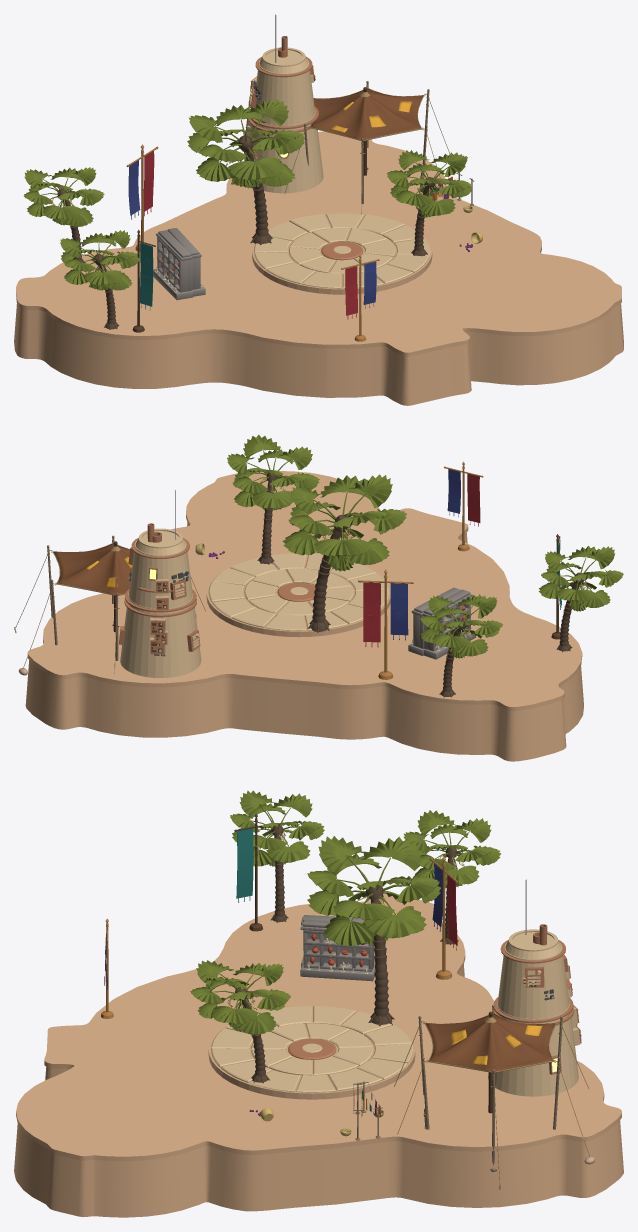
The model's file is nomad_market_plaza.fbx.
3 views of the same model, one above another, from view 1: azimuth 30°, elevation 25°; view 2: azimuth 150°, elevation 25°; view 3: azimuth 270°, elevation 25° (orthographic). The views are drawn at different scales.
Parts seen in each view (by area): view 1: NomadMarketPlaza; view 2: NomadMarketPlaza; view 3: NomadMarketPlaza.
Boxes of the visible parts, x1,y1,x2,y2 form: NomadMarketPlaza: (14,14,623,405); NomadMarketPlaza: (14,434,623,761); NomadMarketPlaza: (14,790,623,1217).
Bounding box in the file's own units: 5028 × 2152 × 4721.
